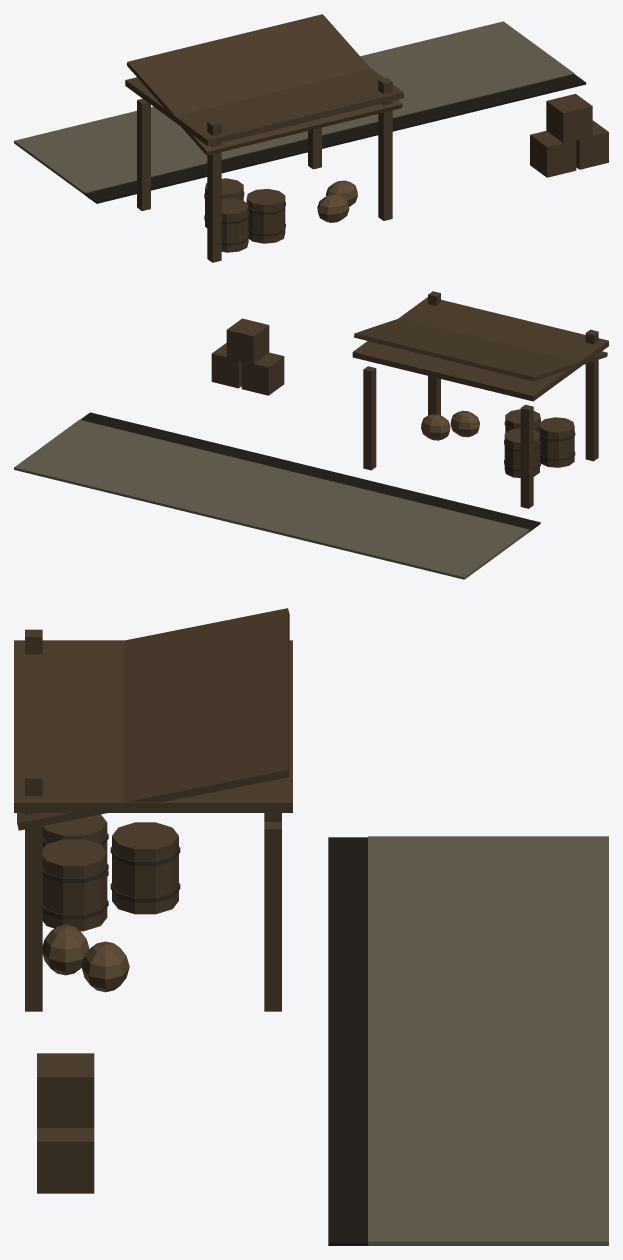
The model's file is DressingLeanTo.fbx.
3 views of the same model, one above another, from view 1: azimuth 30°, elevation 25°; view 2: azimuth 150°, elevation 25°; view 3: azimuth 270°, elevation 25° (orthographic). The views are drawn at different scales.
Parts seen in each view (by area): view 1: DressingLeanTo; view 2: DressingLeanTo; view 3: DressingLeanTo.
Part boxes in pixels (x1,y1,x2,y2): DressingLeanTo: (14,14,608,262); DressingLeanTo: (14,291,608,579); DressingLeanTo: (14,608,608,1245).
Size of the model in its own units: 1202 by 343 by 746.
Materials: 5 (5 with a texture image).
